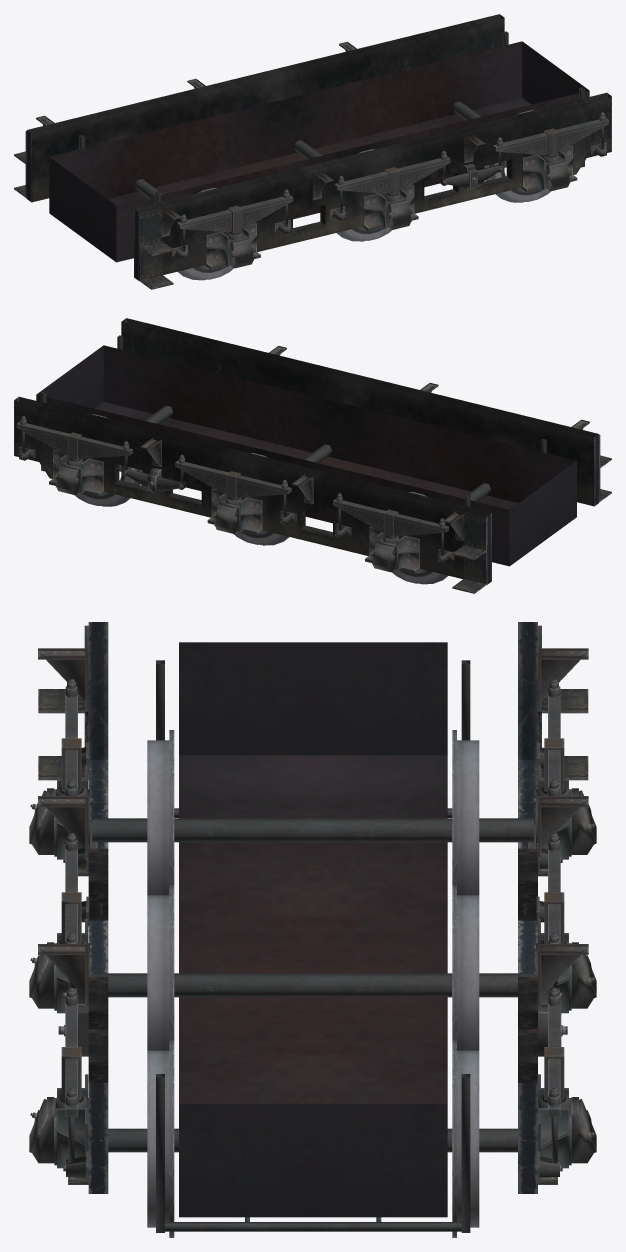
The model's file is Trainbottom2.fbx.
The picture shows the model from 3 angles, top to bottom: view 1: azimuth 30°, elevation 25°; view 2: azimuth 150°, elevation 25°; view 3: azimuth 270°, elevation 25°; orthographic projection. The views are drawn at different scales.
Visible parts, largest first — view 1: SM_a_006_Locomotive_01e; view 2: SM_a_006_Locomotive_01e; view 3: SM_a_006_Locomotive_01e.
Part boxes in pixels (<box>): SM_a_006_Locomotive_01e: <box>14,14,611,289</box>; SM_a_006_Locomotive_01e: <box>14,318,611,593</box>; SM_a_006_Locomotive_01e: <box>29,622,596,1237</box>.
Size of the model in its own units: 769 by 162 by 399.
Materials: 3 (3 with a texture image).
